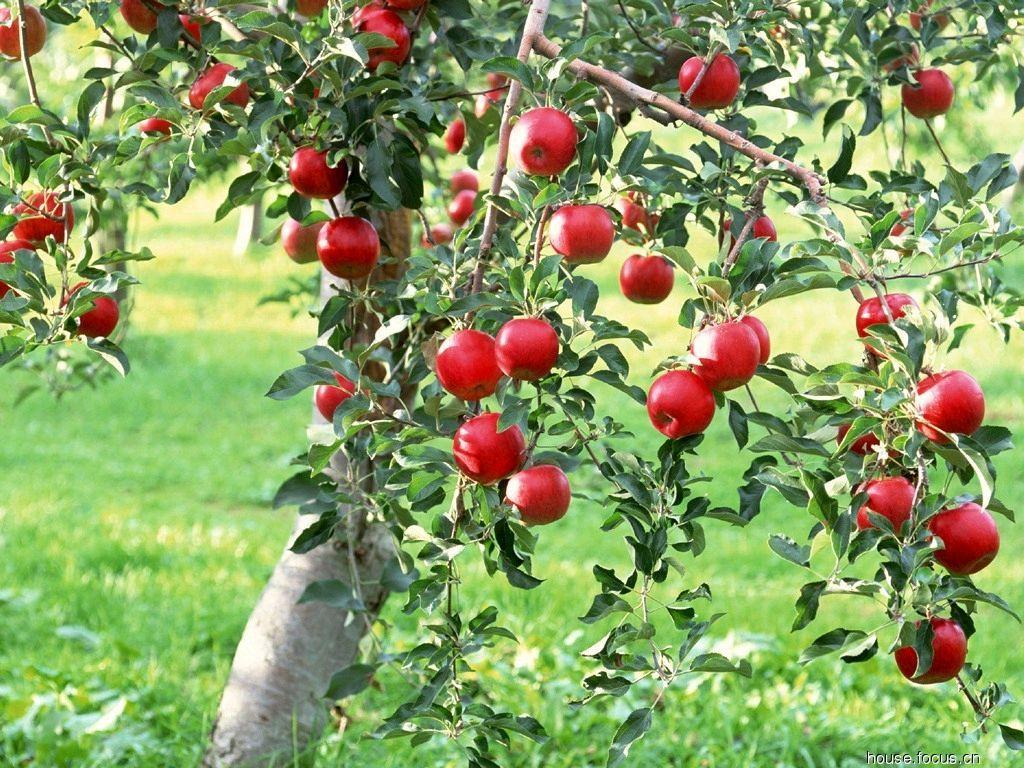apple: (452, 410, 530, 486), (910, 368, 985, 439), (645, 365, 716, 440), (928, 502, 1000, 575), (890, 616, 966, 685), (433, 327, 503, 399), (508, 107, 578, 178), (692, 320, 761, 390), (495, 316, 560, 381), (10, 185, 75, 250), (502, 463, 571, 524), (545, 203, 613, 264), (350, 13, 415, 74), (676, 52, 739, 113), (317, 216, 378, 277), (853, 478, 914, 534), (286, 148, 349, 201), (617, 253, 673, 304), (898, 67, 953, 118), (446, 190, 475, 224)
